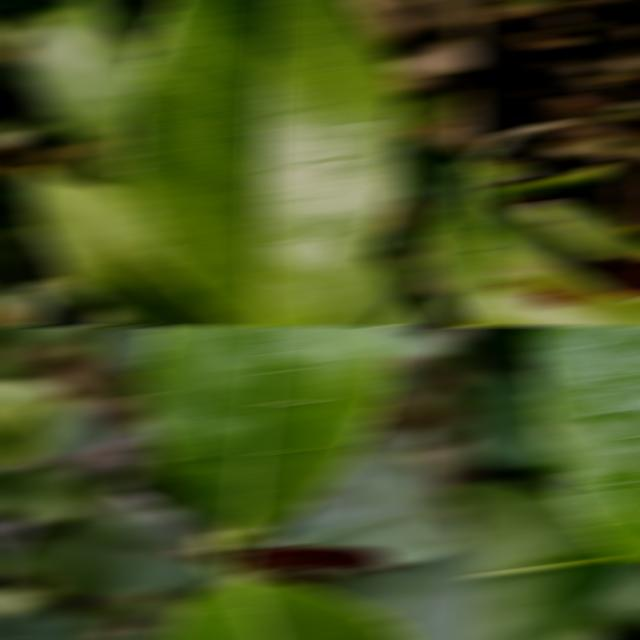Leaf: (121, 0, 405, 326), (134, 326, 396, 537), (20, 166, 248, 326), (526, 326, 640, 560), (466, 480, 626, 640), (270, 452, 479, 565), (27, 499, 232, 598), (163, 568, 415, 640), (20, 0, 144, 145), (396, 134, 480, 326), (317, 548, 480, 640), (466, 363, 554, 467), (466, 276, 640, 326), (309, 258, 434, 326), (517, 199, 637, 259), (0, 467, 98, 521), (487, 163, 617, 198), (0, 227, 57, 294), (0, 380, 64, 436), (95, 326, 162, 374), (0, 606, 93, 640), (8, 326, 93, 343)
